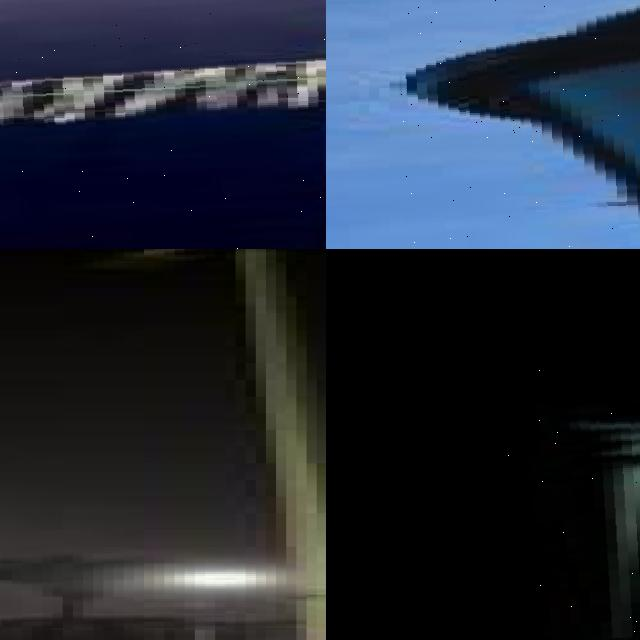street light: (83, 249, 326, 640), (0, 0, 326, 249), (389, 0, 640, 249), (503, 336, 640, 640), (154, 571, 265, 640)
